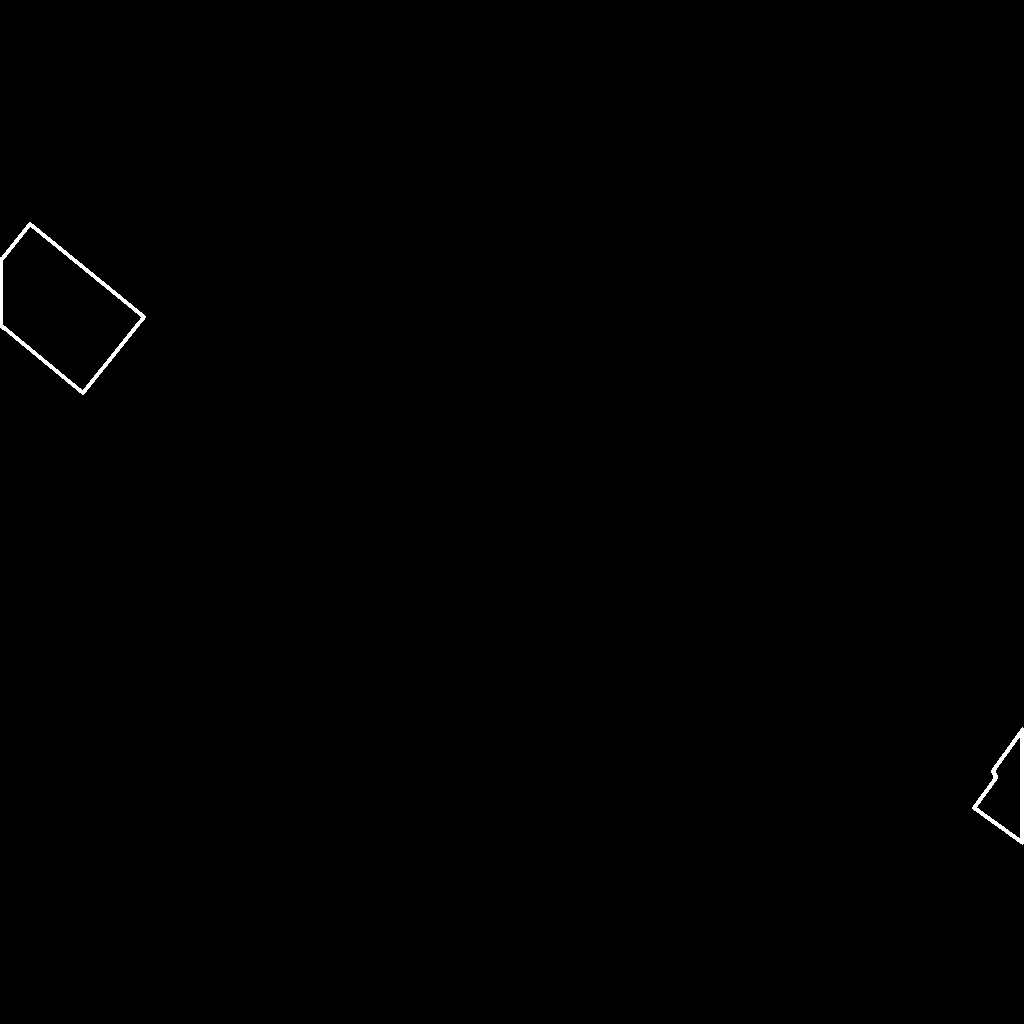building: (0, 224, 145, 394), (974, 729, 1024, 844)
